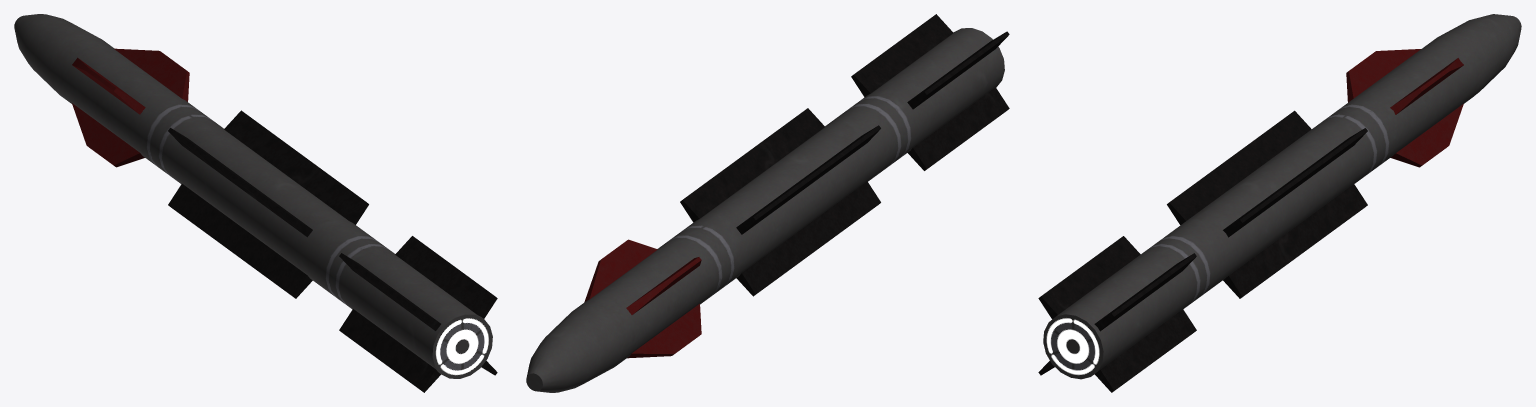
The model's file is missile_m_1.fbx.
The picture shows the model from 3 angles, left to right: view 1: azimuth 30°, elevation 25°; view 2: azimuth 150°, elevation 25°; view 3: azimuth 330°, elevation 25°; orthographic projection.
Visible parts, largest first — view 1: missile_m_1; view 2: missile_m_1; view 3: missile_m_1.
Part boxes in pixels (x1,y1,x2,y2): missile_m_1: [14, 14, 497, 392]; missile_m_1: [526, 14, 1009, 392]; missile_m_1: [1038, 14, 1521, 392].
Bounding box in the file's own units: 1.02 × 1.02 × 10.29.
